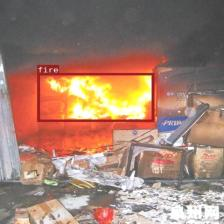fire: (36, 72, 154, 122)
